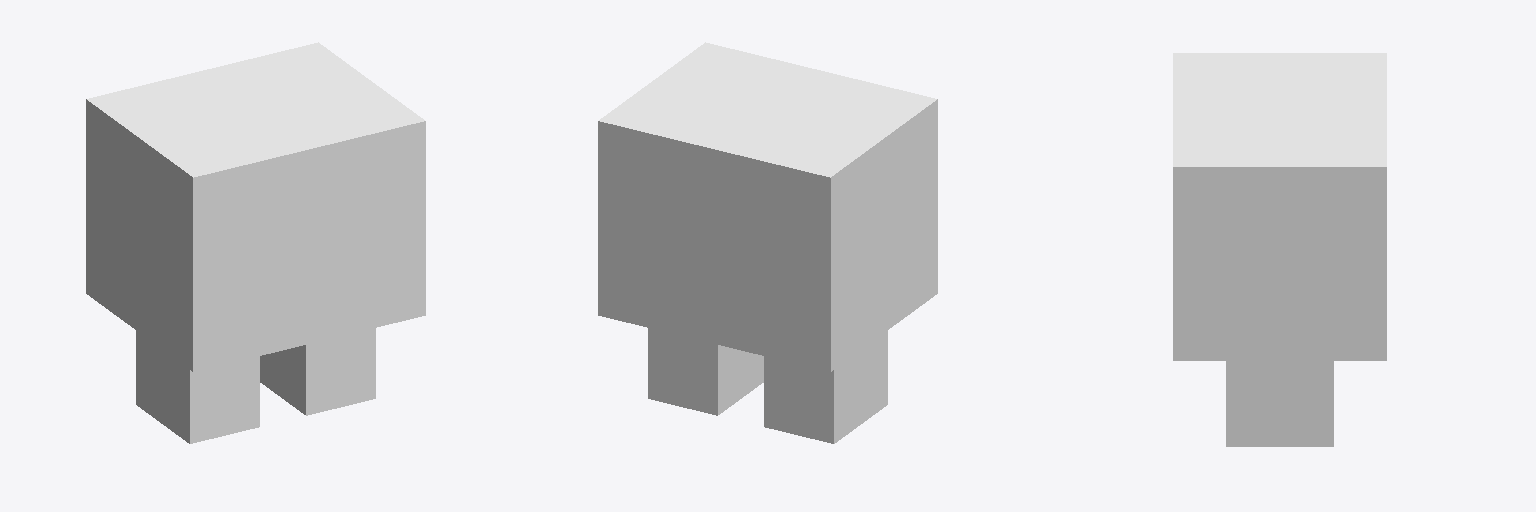
The model's file is body0.obj.
3 views of the same model, side by side, from view 1: azimuth 30°, elevation 25°; view 2: azimuth 150°, elevation 25°; view 3: azimuth 270°, elevation 25° (orthographic).
Bounding box in the file's own units: 0.5 × 0.6 × 0.4.